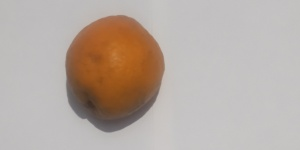BAD: (64, 13, 164, 120)
